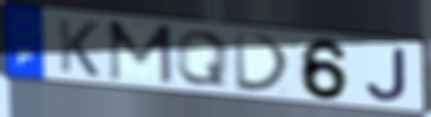6: (297, 36, 354, 102)
D: (231, 29, 295, 95)
J: (364, 45, 410, 104)
K: (55, 16, 102, 79)
M: (106, 19, 176, 87)
Q: (174, 29, 231, 88)
